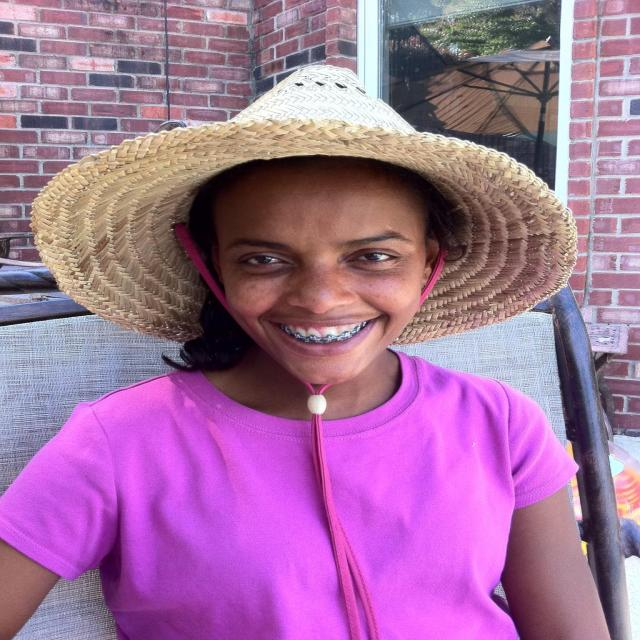Face: (187, 163, 444, 407)
